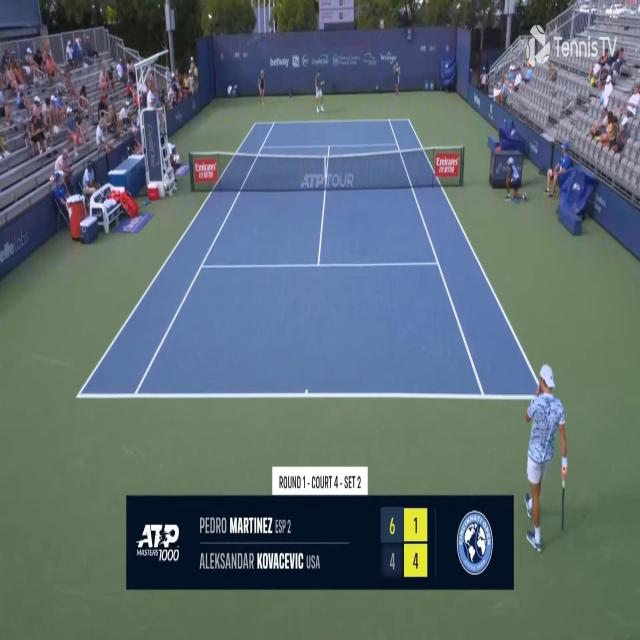tennis-player: (522, 359, 571, 554), (313, 68, 326, 115)
